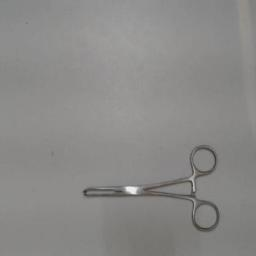Allis Tissue Forceps: (78, 140, 224, 240)
